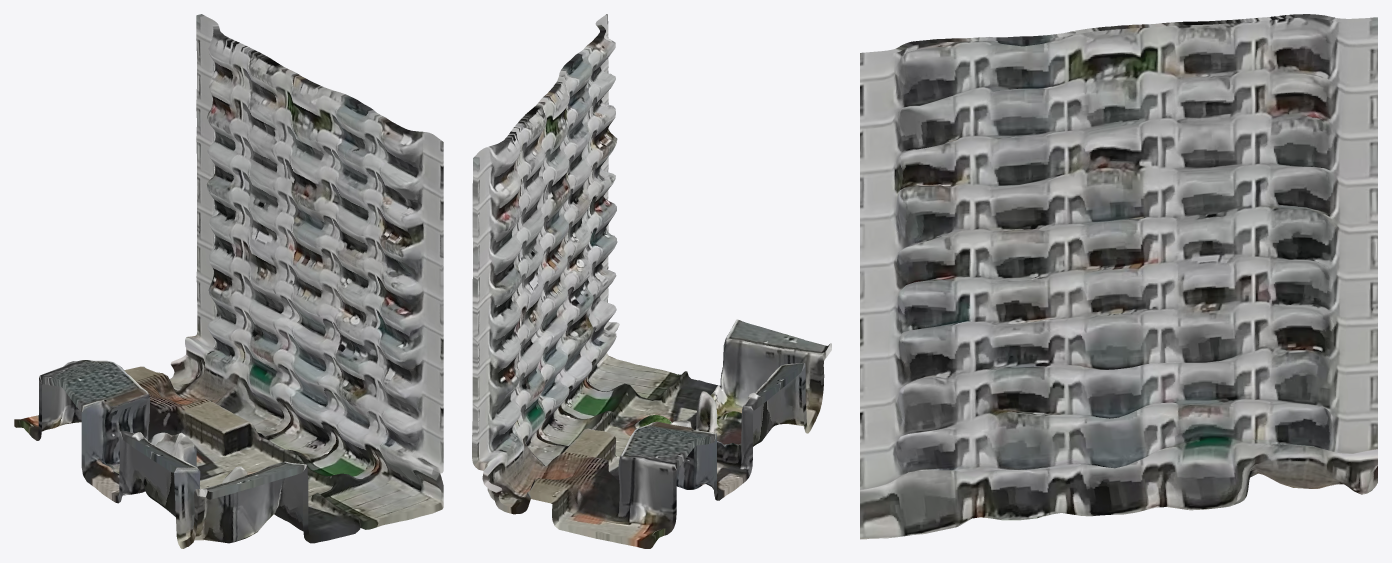
File: z20-167779-405216-h0-yup-uvflip-v3-world.glb
3 renders of one model, left to right at view 1: azimuth 30°, elevation 25°; view 2: azimuth 150°, elevation 25°; view 3: azimuth 270°, elevation 25°, orthographic. The views are drawn at different scales.
Size of the model in its own units: 21.72 by 32.32 by 30.32.
Materials: 1 (1 with a texture image).
